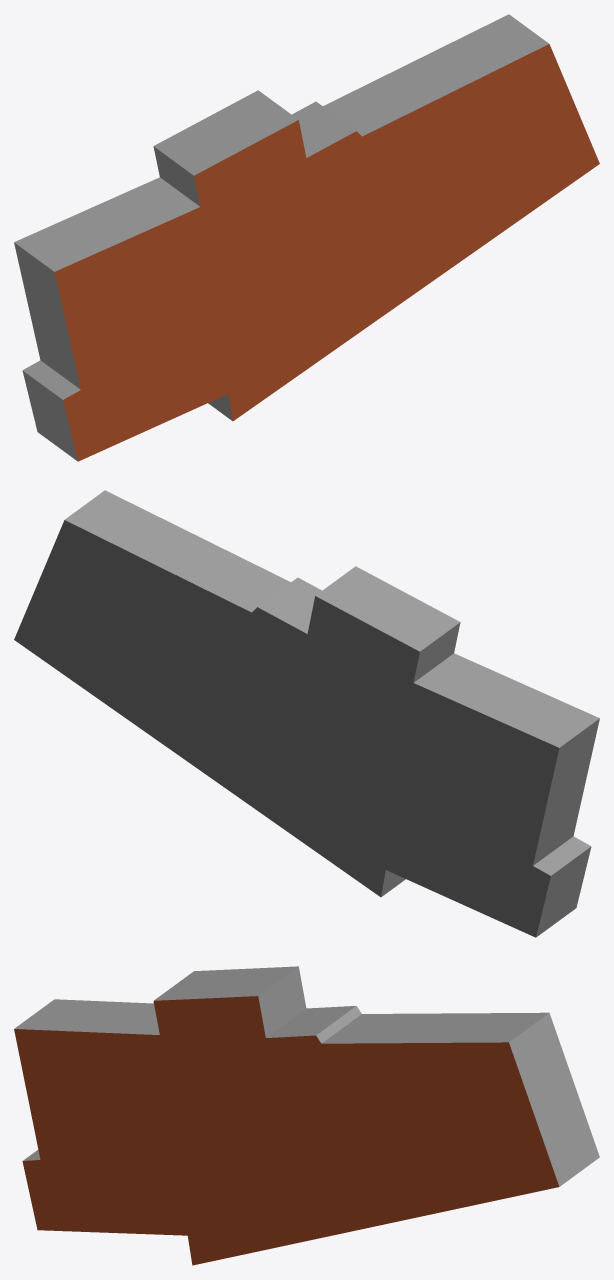
Rendered from construction_6418_assumed_A_Casa_h6m.obj.
3 views of the same model, one above another, from view 1: azimuth 30°, elevation 25°; view 2: azimuth 150°, elevation 25°; view 3: azimuth 330°, elevation 25° (orthographic).
Visible parts, largest first — view 1: construction_6418_assumed_A_Casa; view 2: construction_6418_assumed_A_Casa; view 3: construction_6418_assumed_A_Casa.
Part boxes in pixels (x1,y1,x2,y2): construction_6418_assumed_A_Casa: (14,14,599,461); construction_6418_assumed_A_Casa: (14,490,599,937); construction_6418_assumed_A_Casa: (14,966,599,1265).
Bounding box in the file's own units: 46.6 × 24.72 × 6.
